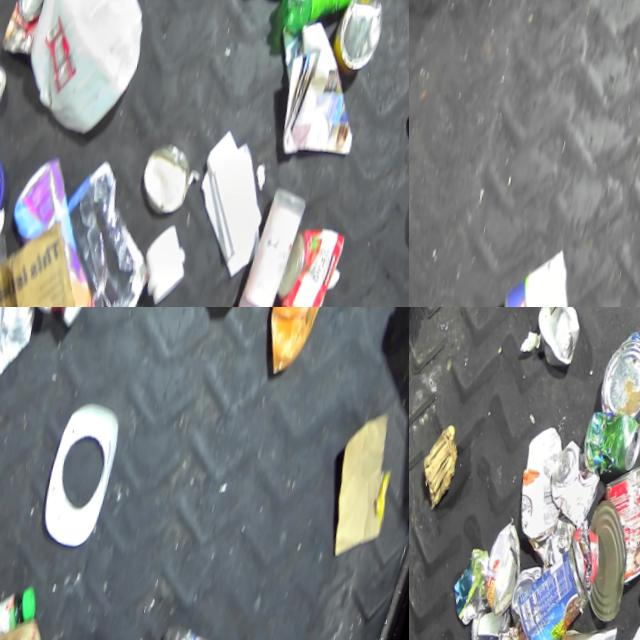can: (512, 541, 607, 640), (576, 501, 640, 627), (324, 0, 398, 91), (495, 235, 588, 307), (590, 460, 640, 592), (547, 439, 614, 534), (283, 222, 357, 307), (485, 522, 537, 622), (0, 307, 48, 393), (584, 410, 640, 482), (531, 307, 591, 370), (599, 330, 640, 422), (0, 0, 58, 65), (514, 565, 549, 630), (472, 604, 520, 640), (0, 49, 16, 154), (553, 619, 626, 640), (397, 93, 409, 173)
milk_jug: (12, 0, 165, 149)
plastic_bottle: (279, 0, 398, 59), (159, 622, 249, 640)
